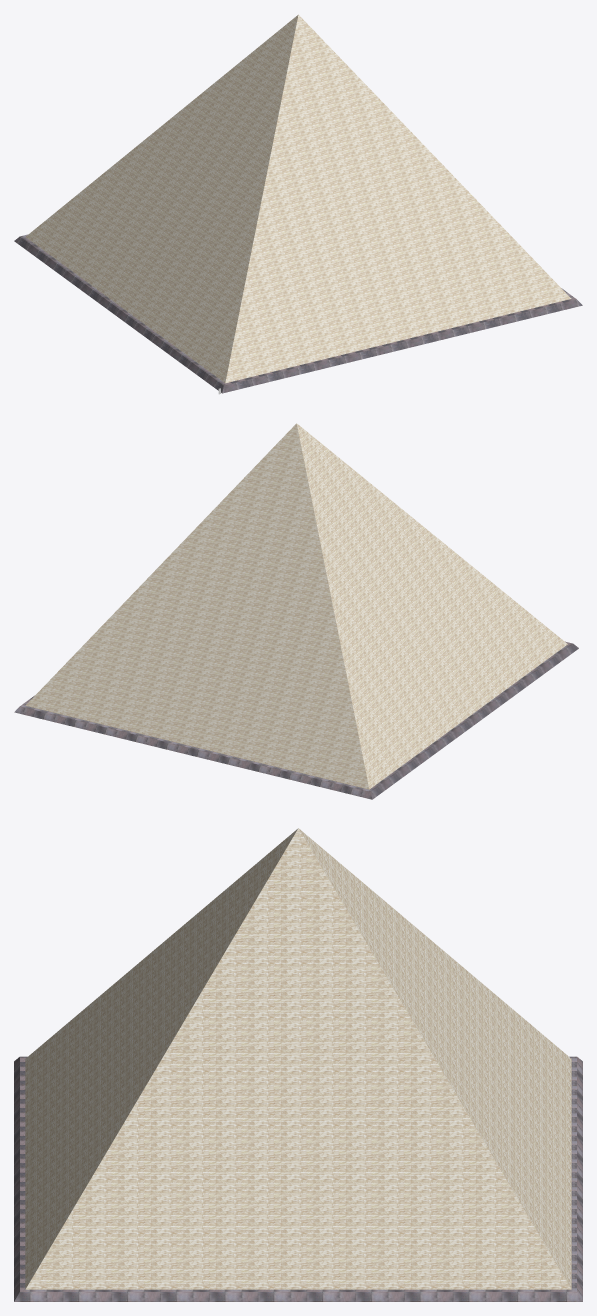
The model's file is Neferirkare_Pyramid.glb.
3 views of the same model, one above another, from view 1: azimuth 30°, elevation 25°; view 2: azimuth 150°, elevation 25°; view 3: azimuth 270°, elevation 25° (orthographic). The views are drawn at different scales.
Visible parts, largest first — view 1: Mesh1 Model; view 2: Mesh1 Model; view 3: Mesh1 Model.
Boxes of the visible parts, x1=… form: Mesh1 Model: x1=14, y1=14, x2=582, y2=393; Mesh1 Model: x1=14, y1=423, x2=578, y2=799; Mesh1 Model: x1=14, y1=828, x2=582, y2=1301.
Bounding box in the file's own units: 106 × 72.01 × 105.
Materials: 3 (3 with a texture image).
